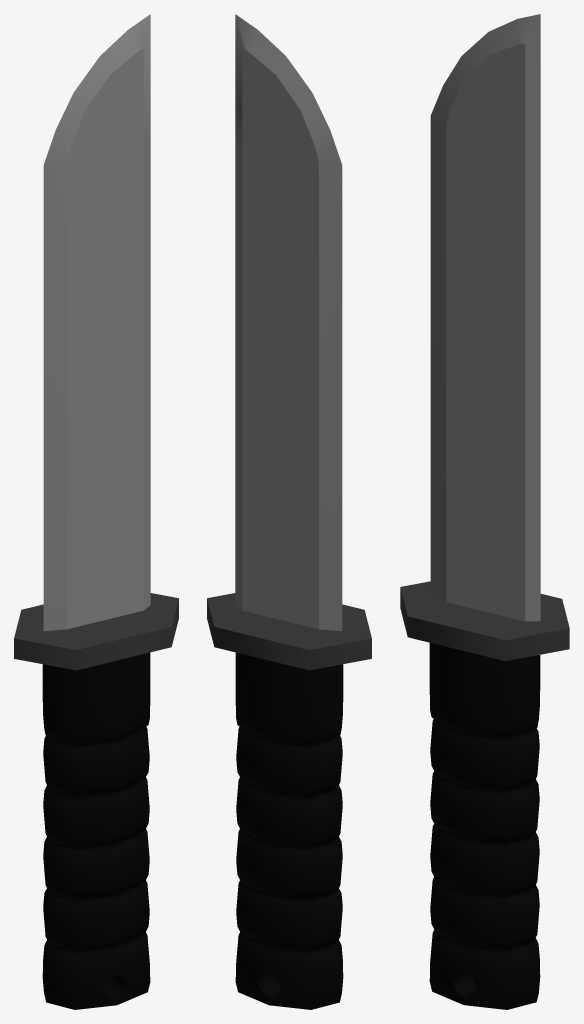
File: Bicak.fbx
3 views of the same model, side by side, from view 1: azimuth 30°, elevation 25°; view 2: azimuth 150°, elevation 25°; view 3: azimuth 330°, elevation 25° (orthographic). The views are drawn at different scales.
Parts seen in each view (by area): view 1: Cube; view 2: Cube; view 3: Cube.
Boxes of the visible parts, x1=… form: Cube: x1=14, y1=14, x2=178, y2=1009; Cube: x1=207, y1=14, x2=371, y2=1009; Cube: x1=400, y1=14, x2=569, y2=1009.
Size of the model in its own units: 76.41 by 428 by 44.16.
2 materials, 1 textured.
